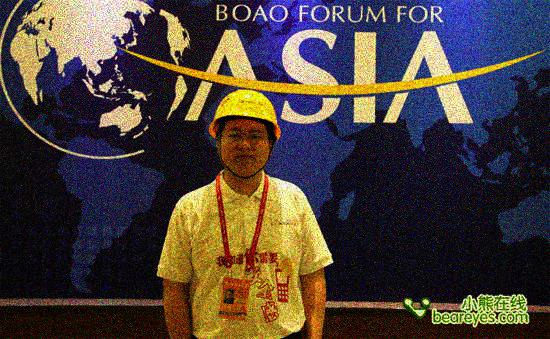helmet: (207, 89, 281, 175)
